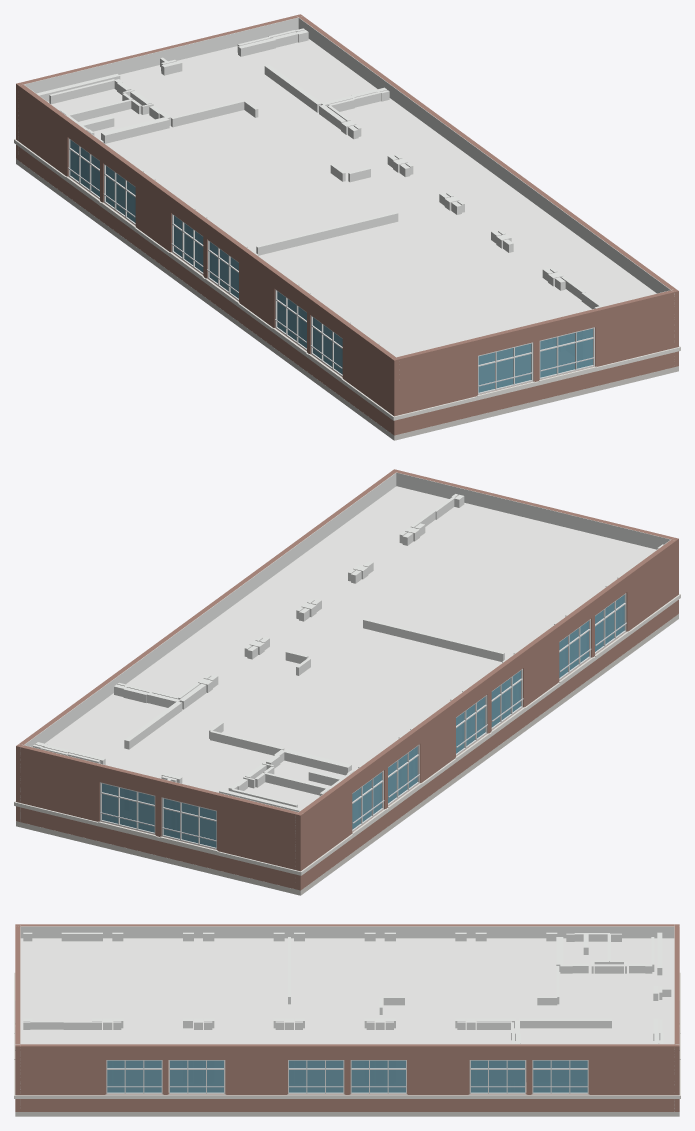
File: info_3F.glb
3 renders of one model, top to bottom at view 1: azimuth 30°, elevation 25°; view 2: azimuth 150°, elevation 25°; view 3: azimuth 270°, elevation 25°, orthographic. The views are drawn at different scales.
Visible parts, largest first — view 1: info_3F__ceil, info_3F__brick, info_3F__wallIn, info_3F__glass, info_3F__frameW, info_3F__corrFloor, info_3F__white, info_3F__rail; view 2: info_3F__ceil, info_3F__brick, info_3F__wallIn, info_3F__glass, info_3F__frameW, info_3F__corrFloor, info_3F__white, info_3F__rail; view 3: info_3F__ceil, info_3F__brick, info_3F__wallIn, info_3F__glass, info_3F__white, info_3F__corrFloor, info_3F__frameW, info_3F__rail.
Boxes of the visible parts, left/top/right/bottom form: info_3F__ceil: left=48, top=39, right=656, bottom=356; info_3F__brick: left=16, top=14, right=678, bottom=435; info_3F__wallIn: left=18, top=16, right=674, bottom=357; info_3F__glass: left=70, top=140, right=592, bottom=392; info_3F__frameW: left=68, top=138, right=594, bottom=394; info_3F__corrFloor: left=16, top=159, right=678, bottom=440; info_3F__white: left=14, top=139, right=680, bottom=420; info_3F__rail: left=68, top=167, right=594, bottom=386; info_3F__ceil: left=45, top=486, right=656, bottom=808; info_3F__brick: left=16, top=469, right=678, bottom=890; info_3F__wallIn: left=19, top=472, right=671, bottom=866; info_3F__glass: left=102, top=595, right=624, bottom=847; info_3F__frameW: left=100, top=593, right=626, bottom=849; info_3F__corrFloor: left=16, top=614, right=678, bottom=895; info_3F__white: left=14, top=594, right=680, bottom=875; info_3F__rail: left=100, top=622, right=626, bottom=841; info_3F__ceil: left=20, top=938, right=674, bottom=1043; info_3F__brick: left=15, top=924, right=679, bottom=1111; info_3F__wallIn: left=15, top=925, right=678, bottom=1111; info_3F__glass: left=107, top=1060, right=587, bottom=1092; info_3F__white: left=14, top=972, right=680, bottom=1098; info_3F__corrFloor: left=15, top=1060, right=679, bottom=1116; info_3F__frameW: left=106, top=1060, right=588, bottom=1094; info_3F__rail: left=15, top=1001, right=679, bottom=1087.
Size of the model in its own units: 14.44 by 3.85 by 33.04.
